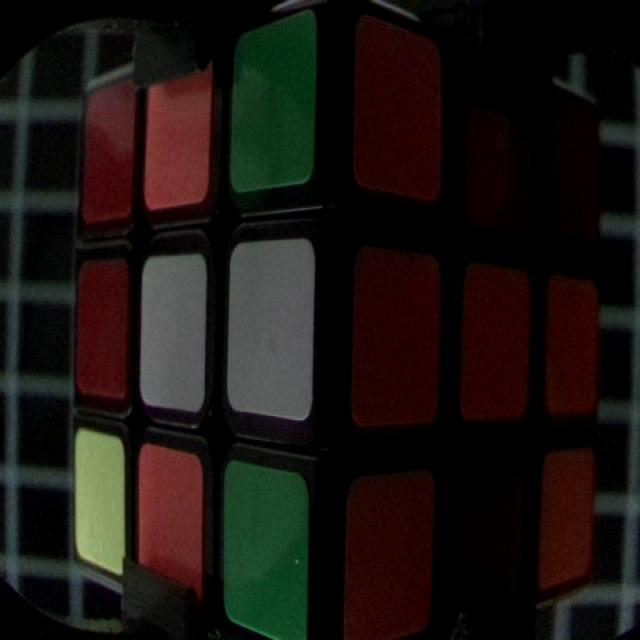g: (224, 467, 307, 633), (234, 30, 314, 186)
o: (360, 21, 438, 195), (358, 253, 437, 422), (350, 485, 430, 640), (469, 270, 528, 411), (142, 454, 198, 589), (148, 77, 208, 202), (545, 456, 591, 581), (552, 282, 594, 413)
r: (462, 463, 522, 587), (543, 101, 597, 236), (468, 68, 516, 200), (85, 94, 131, 219), (80, 266, 126, 390)
w: (228, 247, 311, 416), (144, 259, 203, 413)
y: (74, 433, 123, 562)
